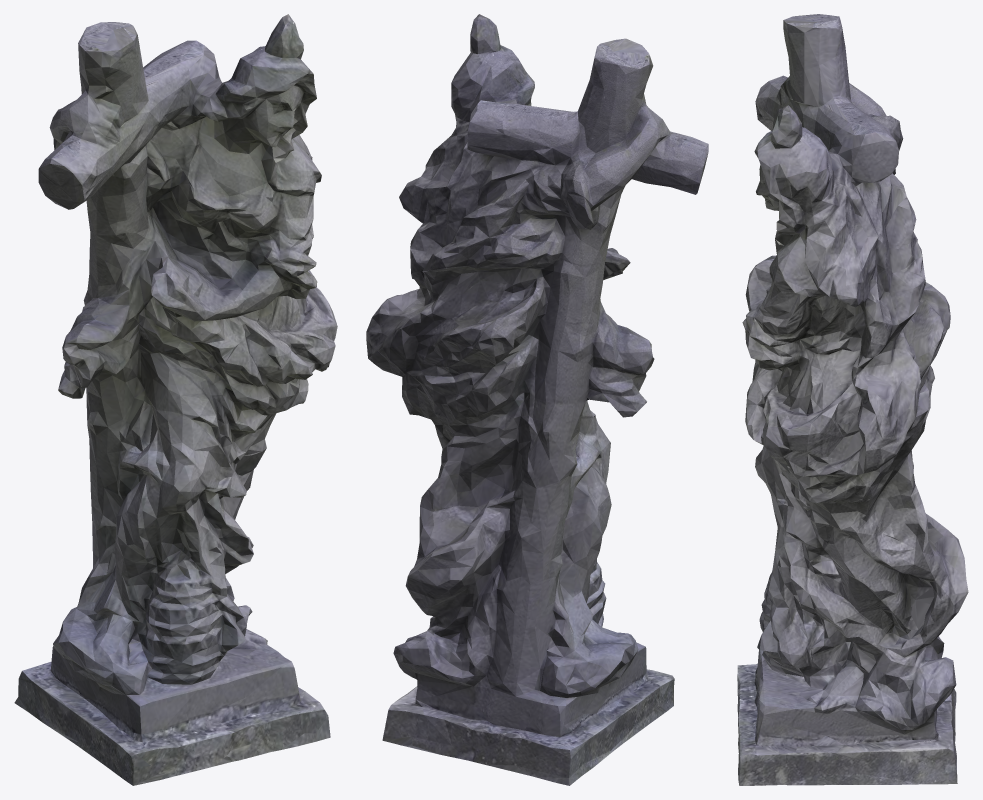
The model's file is vira7ksmalltex.glb.
3 renders of one model, left to right at view 1: azimuth 30°, elevation 25°; view 2: azimuth 150°, elevation 25°; view 3: azimuth 270°, elevation 25°, orthographic. The views are drawn at different scales.
Visible parts, largest first — view 1: 30k_socha1; view 2: 30k_socha1; view 3: 30k_socha1.
Boxes of the visible parts, x1=… form: 30k_socha1: x1=14, y1=14, x2=337, y2=785; 30k_socha1: x1=366, y1=14, x2=708, y2=785; 30k_socha1: x1=737, y1=14, x2=968, y2=785.
Bounding box in the file's own units: 1.93 × 4.25 × 1.3.
Materials: 1 (1 with a texture image).
